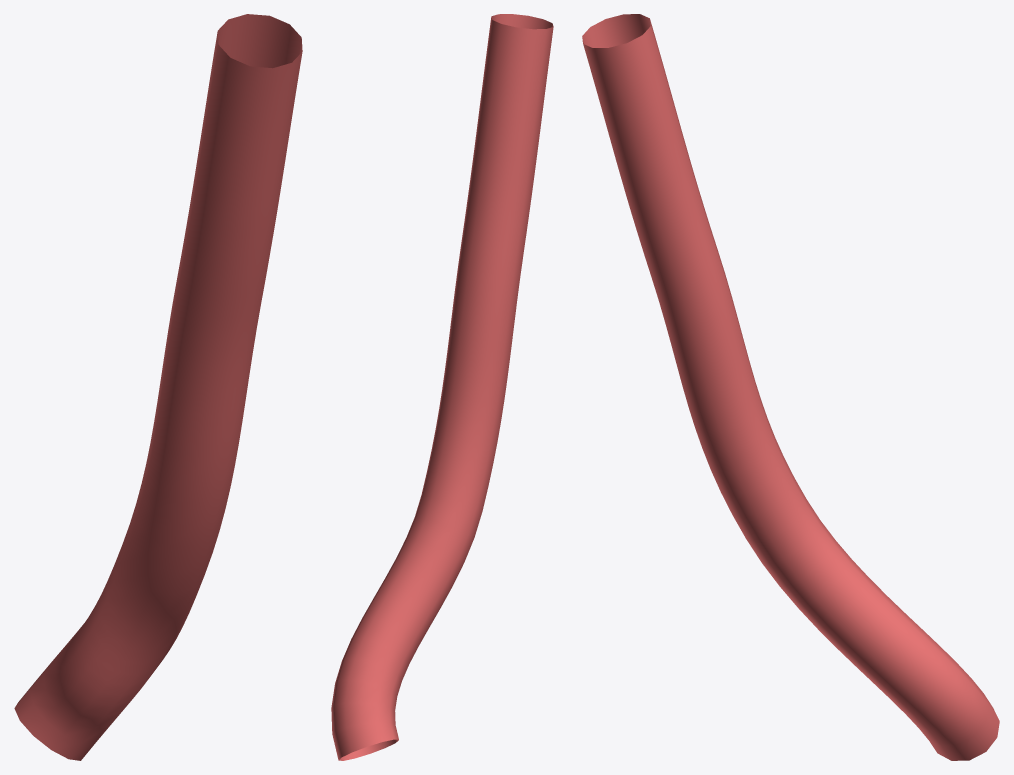
The model's file is Basilar_artery.001_BezierCurve.285.glb.
The picture shows the model from 3 angles, left to right: view 1: azimuth 30°, elevation 25°; view 2: azimuth 150°, elevation 25°; view 3: azimuth 270°, elevation 25°; orthographic projection. The views are drawn at different scales.
Parts seen in each view (by area): view 1: Basilar_artery.001_BezierCurve.285; view 2: Basilar_artery.001_BezierCurve.285; view 3: Basilar_artery.001_BezierCurve.285.
Part boxes in pixels (bbox=[...]): Basilar_artery.001_BezierCurve.285: bbox=[14, 14, 302, 760]; Basilar_artery.001_BezierCurve.285: bbox=[331, 14, 553, 760]; Basilar_artery.001_BezierCurve.285: bbox=[582, 14, 999, 760].
Size of the model in its own units: 0.00289 by 0.0243 by 0.0126.
